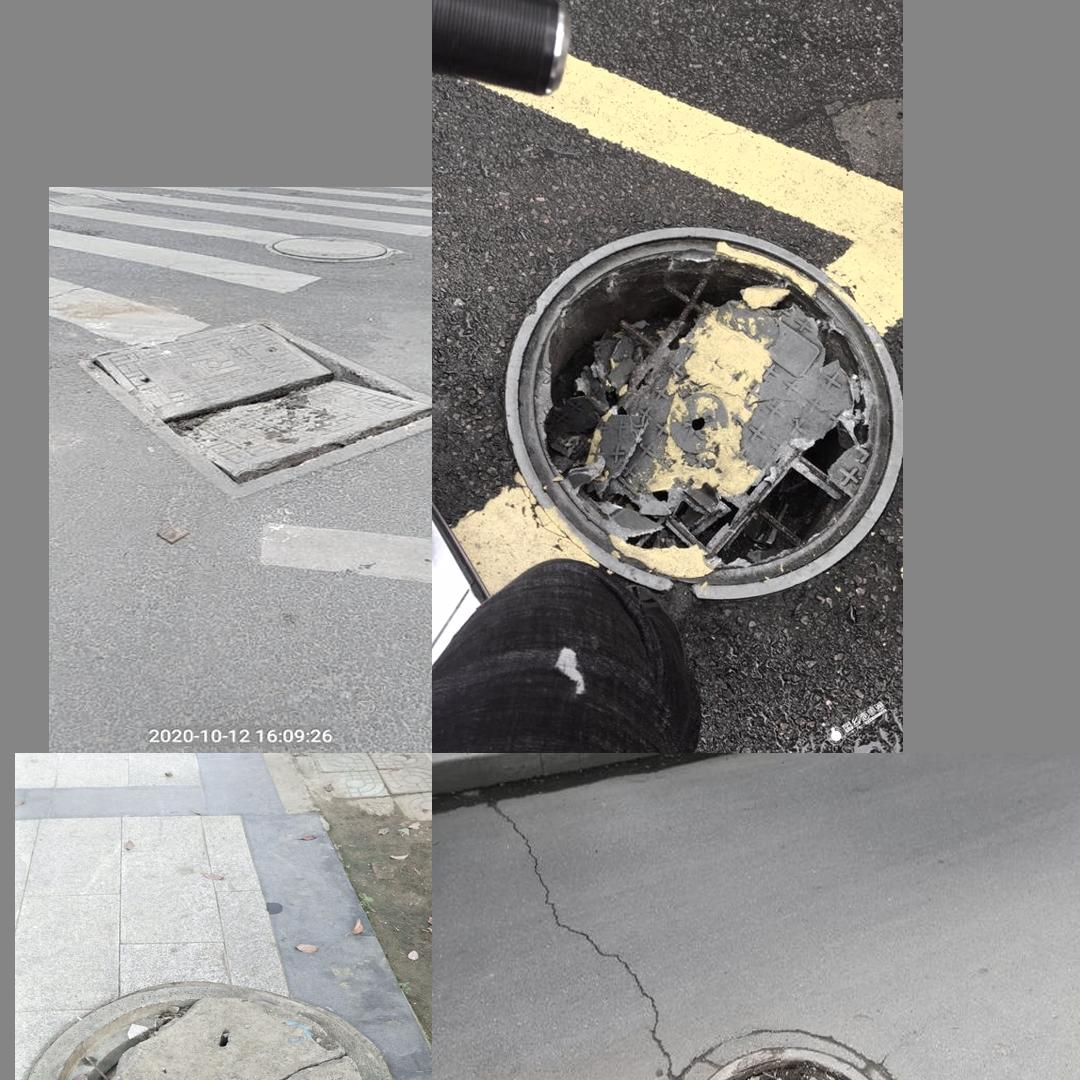broke: (484, 200, 884, 595), (76, 299, 429, 501), (17, 975, 404, 1080), (634, 1012, 929, 1080)
